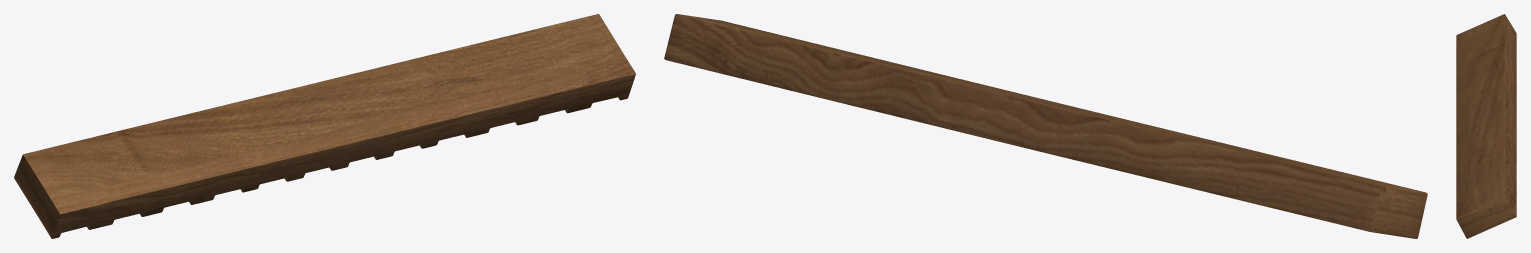
File: plank.005.gltf
3 renders of one model, left to right at view 1: azimuth 30°, elevation 25°; view 2: azimuth 150°, elevation 25°; view 3: azimuth 270°, elevation 25°, orthographic. The views are drawn at different scales.
Visible parts, largest first — view 1: plank.005; view 2: plank.005; view 3: plank.005.
Part boxes in pixels (<box>): plank.005: <box>14,14,635,238</box>; plank.005: <box>664,14,1427,238</box>; plank.005: <box>1456,14,1516,238</box>.
Size of the model in its own units: 0.552 by 0.0584 by 0.0769.
Materials: 1 (1 with a texture image).
